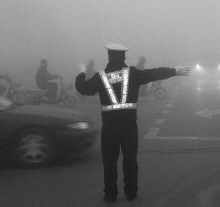person: (75, 44, 194, 202), (35, 55, 62, 106), (136, 57, 149, 96), (86, 59, 96, 76)
